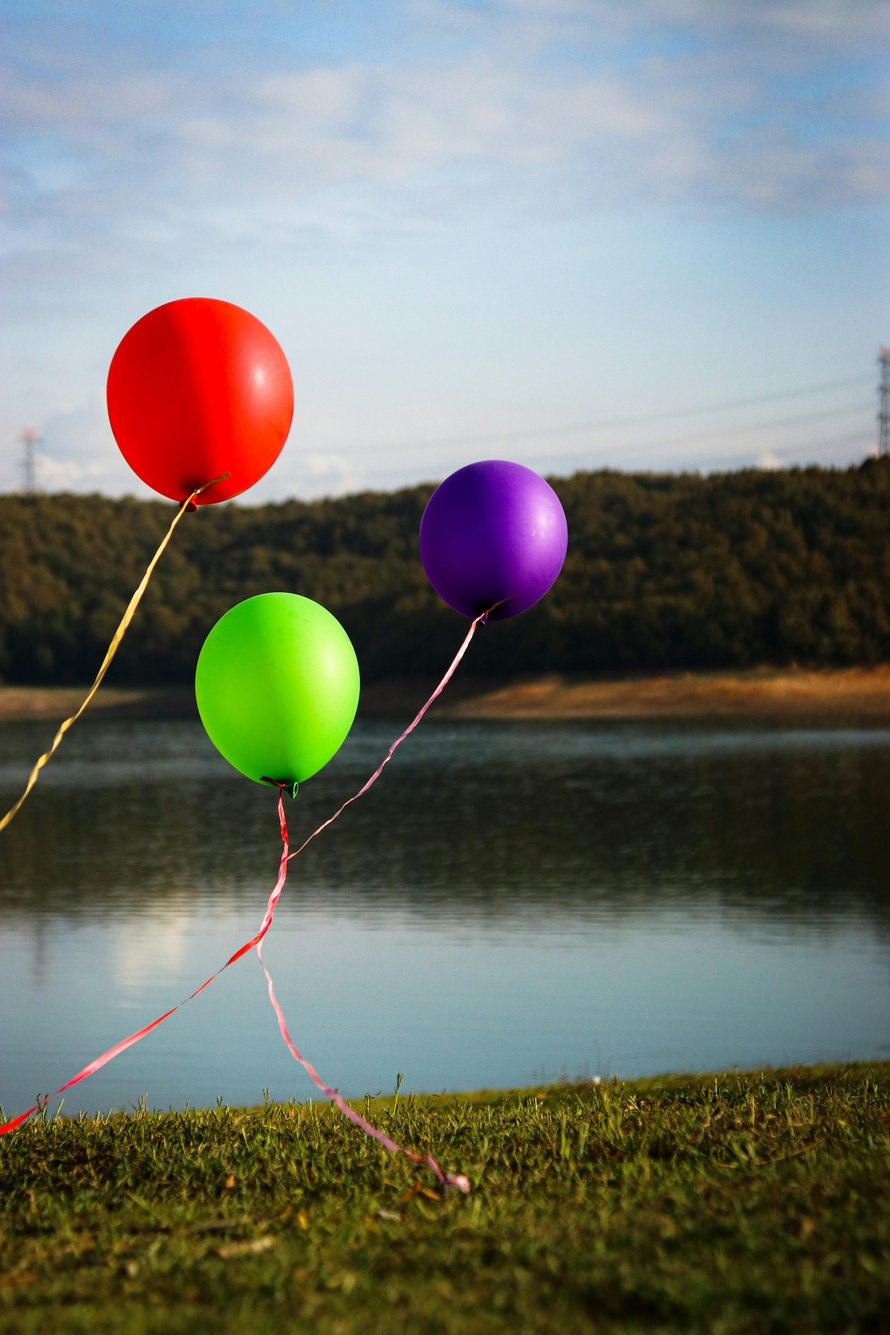balloon: (107, 298, 293, 505), (195, 593, 359, 795), (420, 461, 567, 620)
